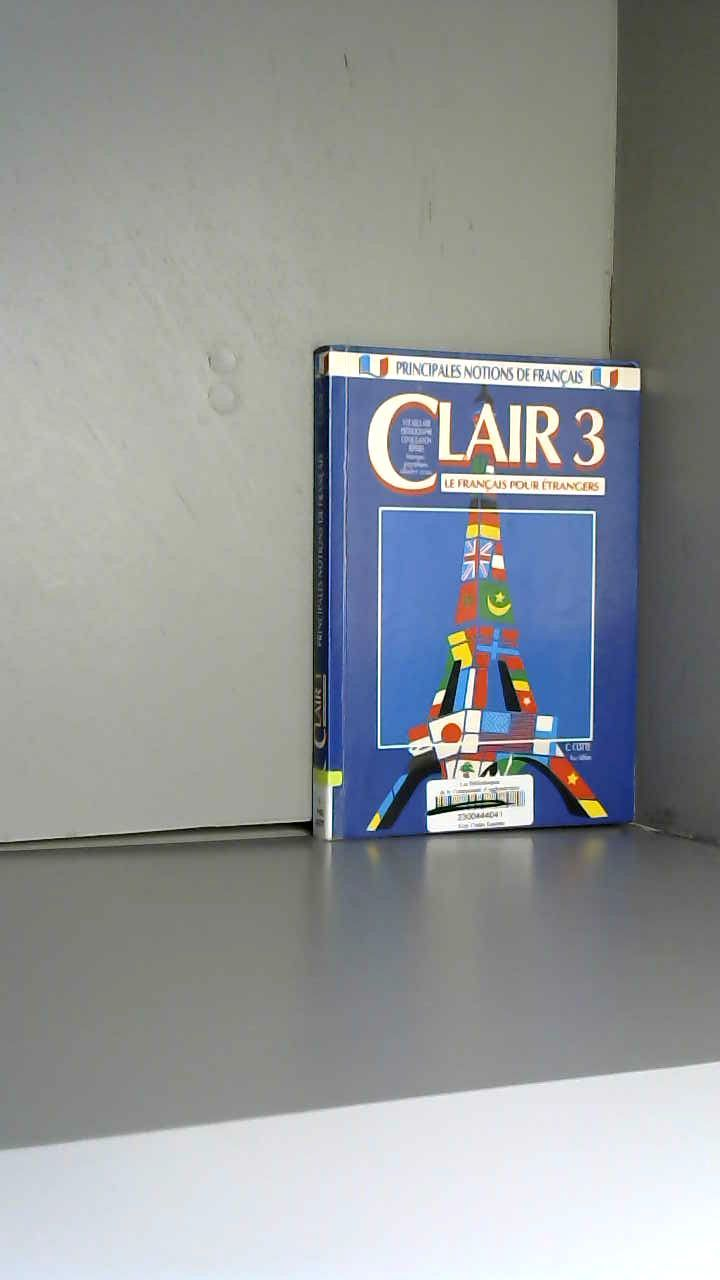book: (290, 310, 720, 898)
